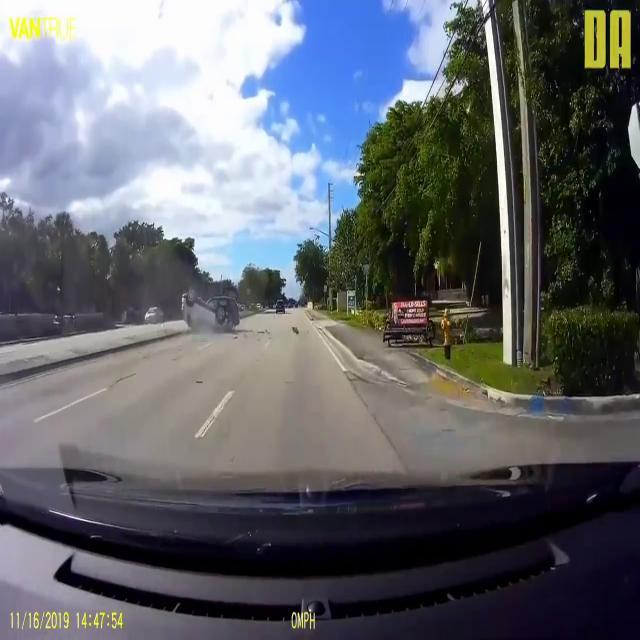single accident: (135, 253, 277, 363)
